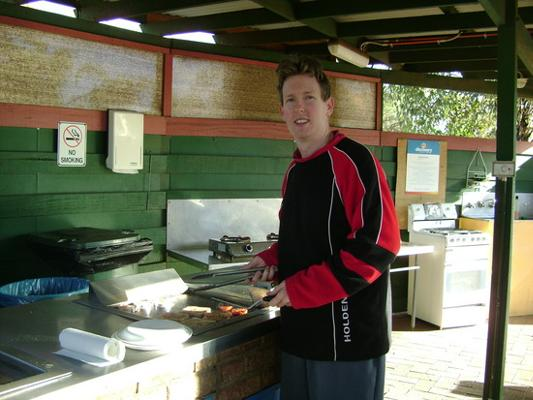person: (249, 63, 401, 400)
